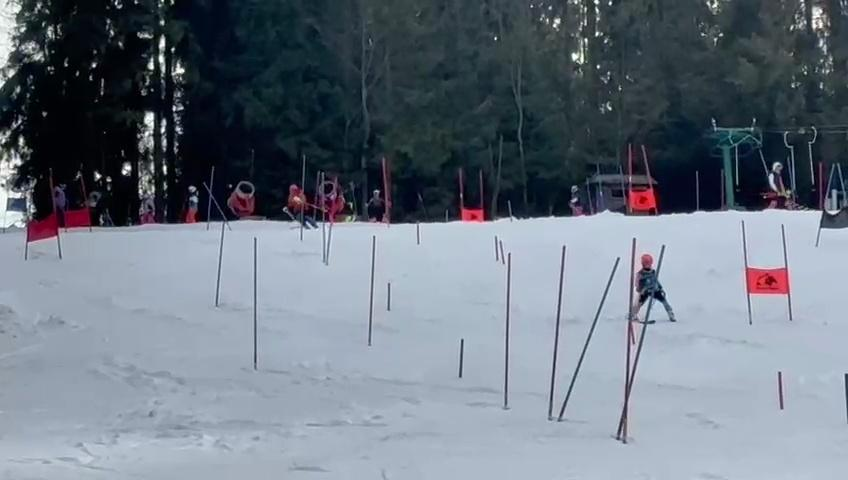gate: (557, 253, 621, 424), (619, 233, 668, 456), (500, 251, 520, 416), (736, 211, 762, 329), (246, 235, 268, 371), (772, 225, 801, 323), (551, 245, 566, 424), (317, 170, 341, 272), (638, 140, 663, 226), (360, 230, 378, 347), (374, 147, 399, 230), (214, 212, 235, 310), (290, 145, 310, 241), (45, 173, 66, 260), (819, 159, 835, 258), (617, 138, 637, 215), (769, 367, 797, 417), (202, 163, 217, 234), (833, 157, 848, 227), (457, 336, 468, 382), (492, 236, 507, 262), (411, 223, 426, 247), (386, 279, 395, 315)
